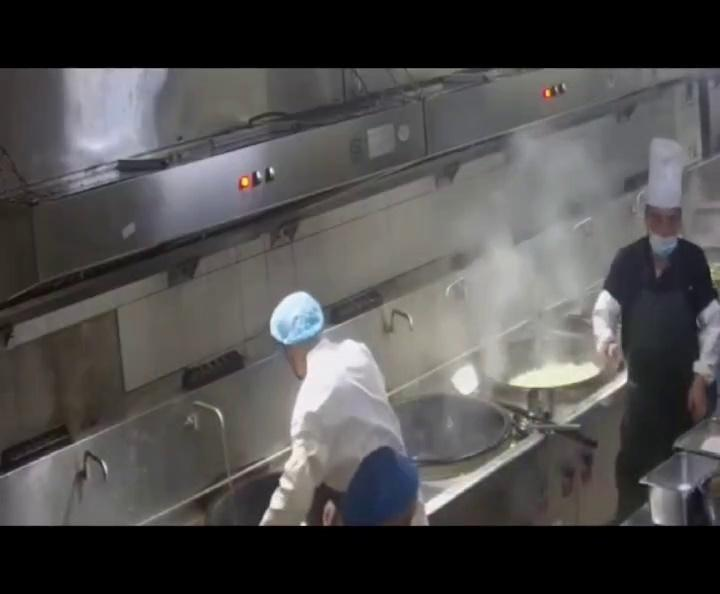gloves: (340, 448, 436, 527), (272, 290, 322, 341)
mask: (646, 220, 680, 254)
